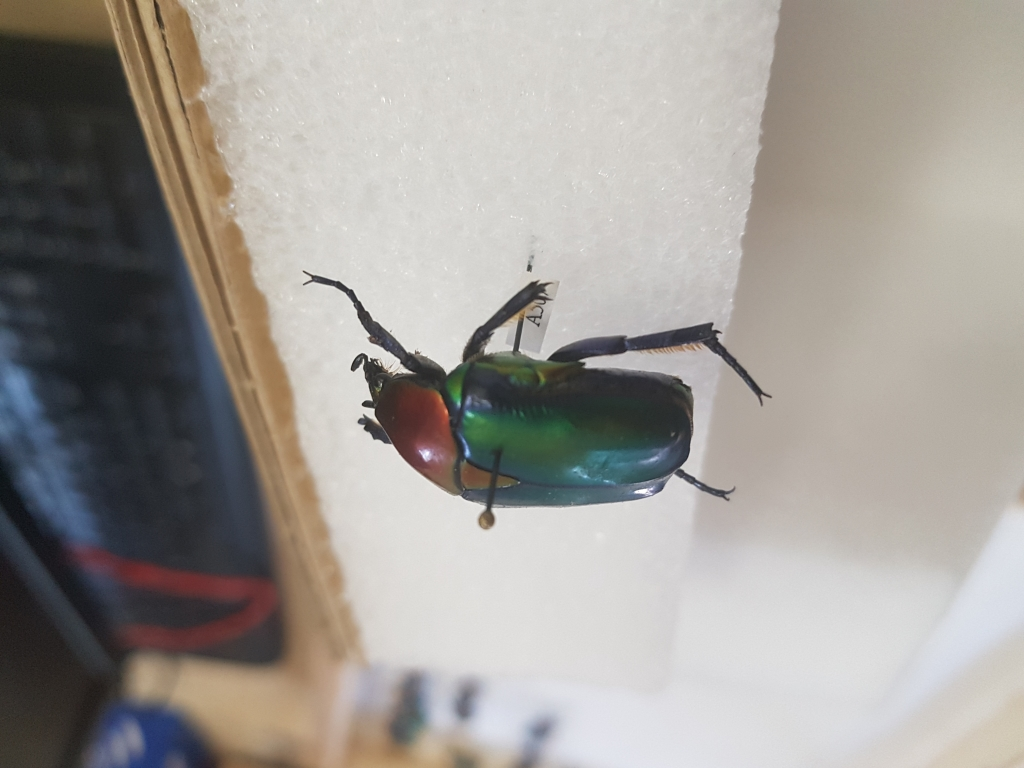Protaetia_speciosa_jousselini: (294, 256, 774, 511)
